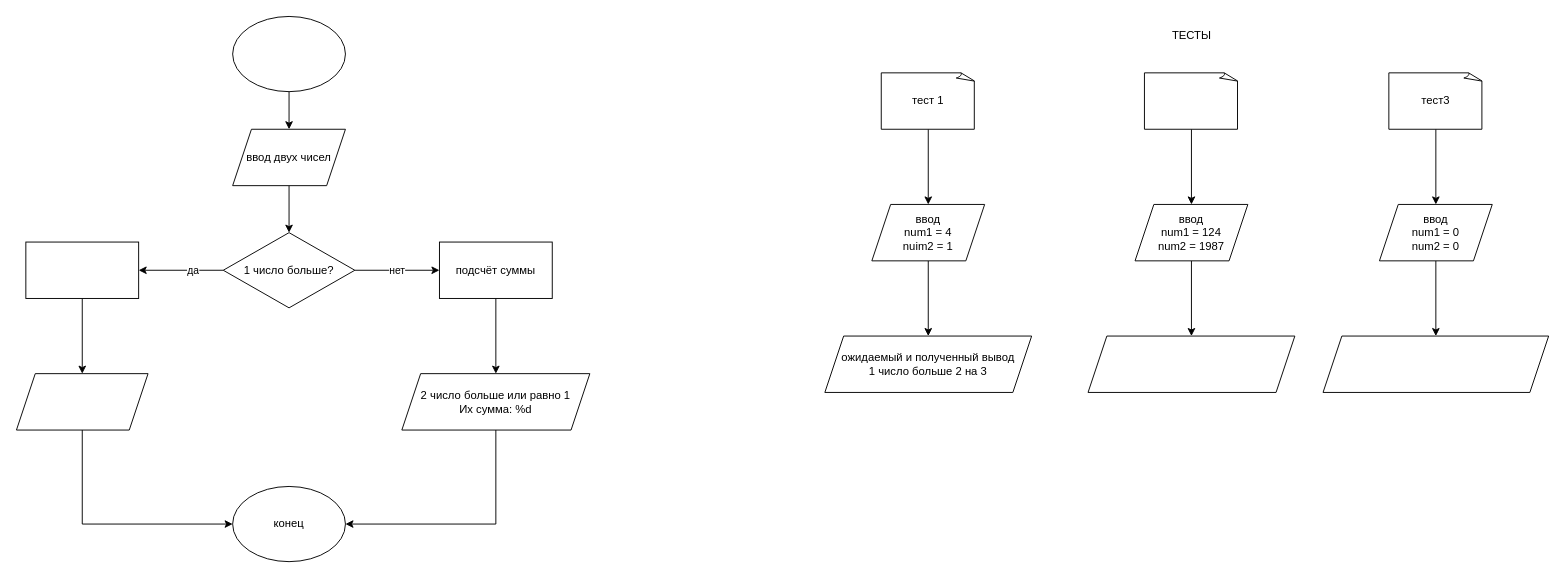
This 1565x578 diagram has some shape labels left out. Here are the shapes that lost their labels. From the top down, the centre of each, then its label:
point 288,54: начало
point 1191,100: тест2
point 82,269: подсчёт разницы 1 и 2
point 1191,363: ожидаемый и полученный вывод 2 число больше или равно 1 Их сумма 2111
point 1435,363: ожидаемый и полученный вывод число 2 больше или равно 1 Их сумма 0
point 82,401: 1 число больше 2 на %d
